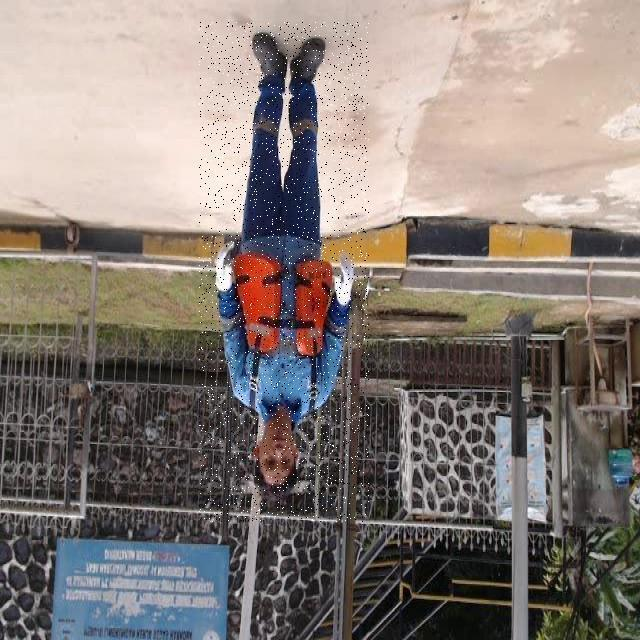Boots: (242, 29, 331, 84)
Gloves: (200, 238, 242, 296), (330, 248, 365, 317)
Vest: (225, 235, 330, 420)
